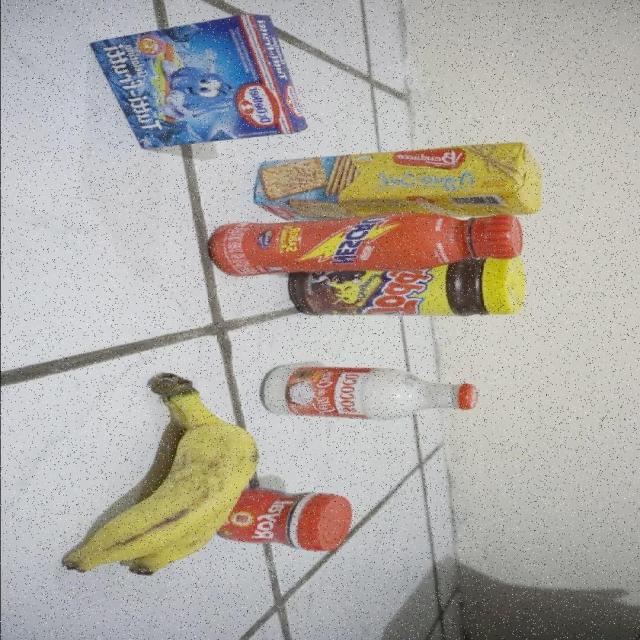Banana: (61, 376, 254, 583)
ChocolateMilk: (209, 222, 520, 268)
ChocolatePowder: (282, 266, 538, 322)
CoconutMilk: (257, 361, 491, 424)
Cracker: (246, 148, 551, 217)
Gelatine: (76, 15, 307, 144)
Yeast: (230, 490, 348, 560)
